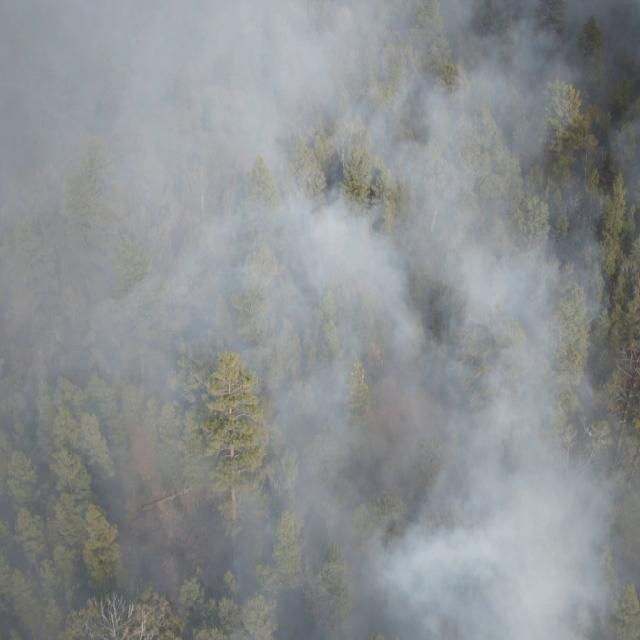smoke: (0, 1, 640, 350), (245, 352, 640, 640), (0, 350, 212, 640), (212, 458, 245, 640)
